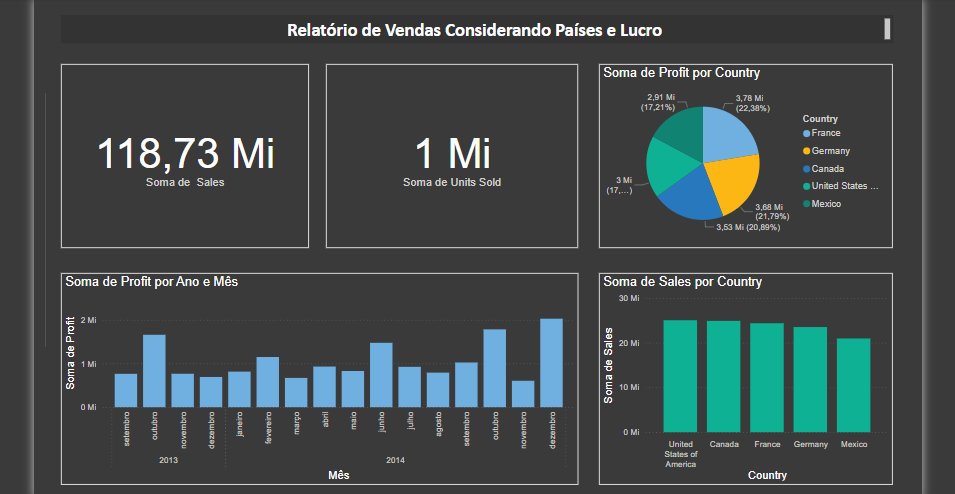

This screenshot's page, from the dashboard's own definition file:
{"tool":"powerbi","page":{"name":"Página 2","canvas":[1280,720],"ordinal":1},"visuals":[{"type":"textbox","box":[38.5,24.7,1198.9,41.2],"z":0},{"type":"card","fields":{"Values":["Sum(financials. Sales)"]},"box":[38.9,95,357.1,265],"z":1000},{"type":"card","fields":{"Values":["Sum(financials.Units Sold)"]},"box":[420.5,95,362.9,265],"z":2000},{"type":"pieChart","fields":{"Category":["financials.Country"],"Y":["Sum(financials.Profit)"]},"box":[813.6,95,423.4,265],"z":3000},{"type":"clusteredColumnChart","fields":{"Y":["Sum(financials.Profit)"],"Category":["financials.Date.Variation.Hierarquia de datas.Ano","financials.Date.Variation.Hierarquia de datas.Mês"]},"box":[38.5,396,745.2,305.2],"z":4000},{"type":"clusteredColumnChart","fields":{"Category":["financials.Country"],"Y":["Sum(financials. Sales)"]},"box":[813.9,396,423.5,305.2],"z":5000}]}

Visuals, with their boxes on the page's 1280x720 design canvas (x1, y1, x2, y2). These are canvas units, not pixel positions in the 955x494 screenshot, which may show the page scaled, cropped or inside an application window:
textbox: x1=38 y1=25 x2=1237 y2=66
card - Sum(financials. Sales): x1=39 y1=95 x2=396 y2=360
card - Sum(financials.Units Sold): x1=420 y1=95 x2=783 y2=360
pieChart - financials.Country x Sum(financials.Profit): x1=814 y1=95 x2=1237 y2=360
clusteredColumnChart - Sum(financials.Profit) x financials.Date.Variation.Hierarquia de datas.Ano: x1=38 y1=396 x2=784 y2=701
clusteredColumnChart - financials.Country x Sum(financials. Sales): x1=814 y1=396 x2=1237 y2=701
